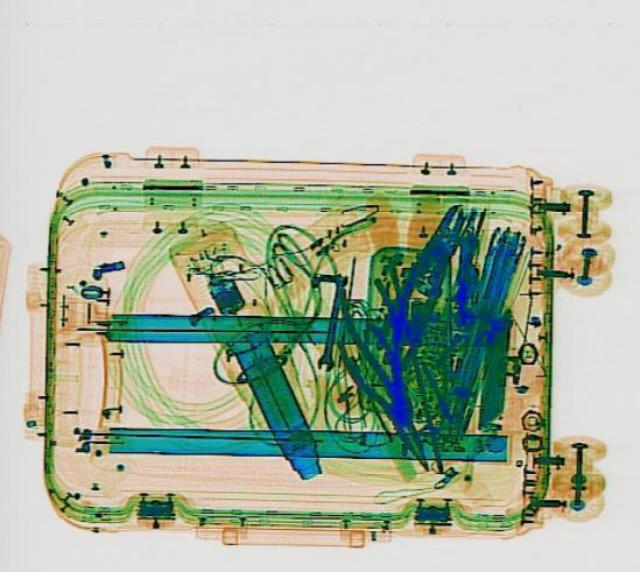Pliers: (362, 195, 476, 373), (326, 320, 452, 477), (332, 275, 430, 431)
